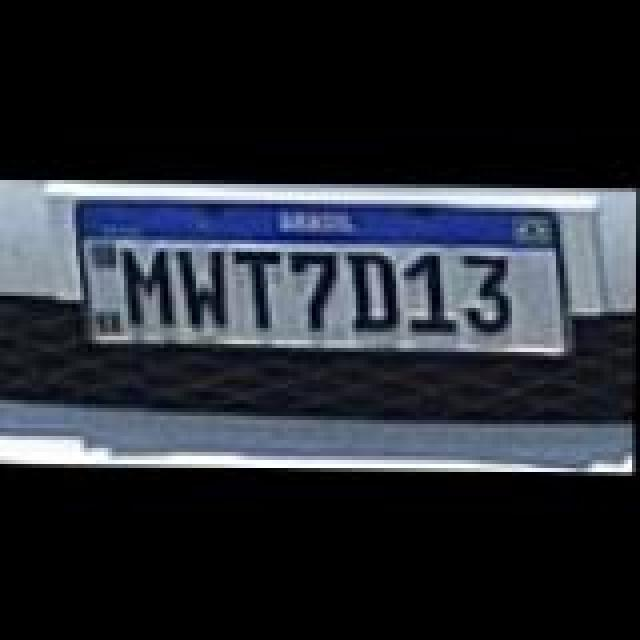1: (398, 248, 458, 332)
3: (454, 248, 514, 332)
7: (286, 246, 346, 330)
D: (346, 246, 406, 330)
M: (118, 244, 186, 328)
T: (230, 248, 290, 328)
W: (178, 244, 238, 328)
